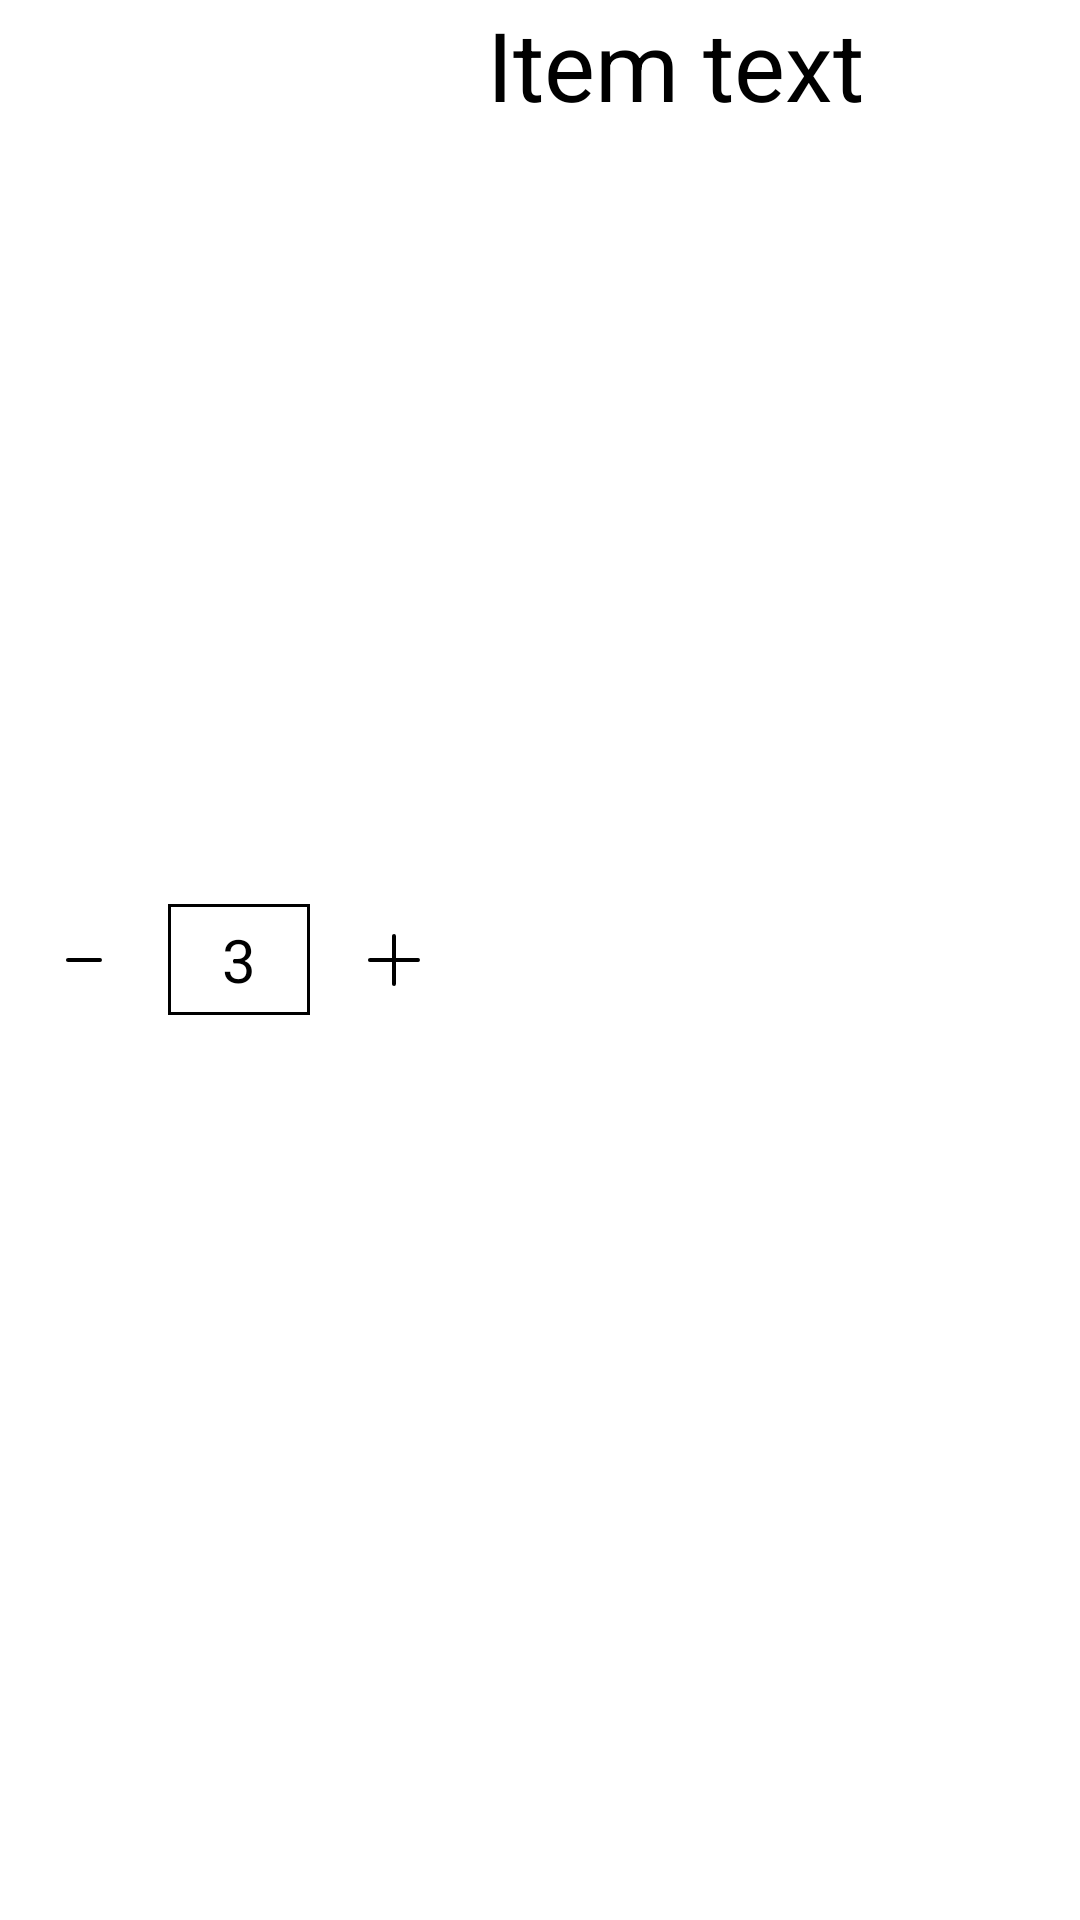

Locate icon controls on the screen. Image size 1080×1920, boxes as (x1, y1, x2, y2).
plus: (368, 934, 420, 986)
